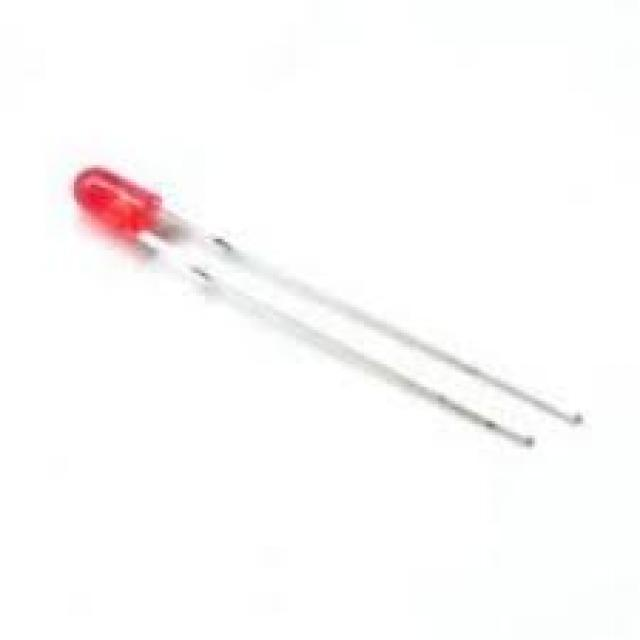Led: (75, 168, 300, 337)
